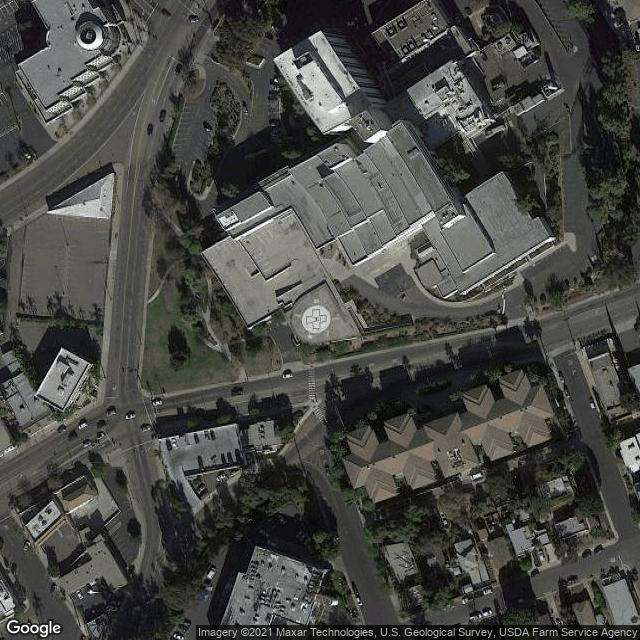Helipad: (298, 299, 334, 335)
